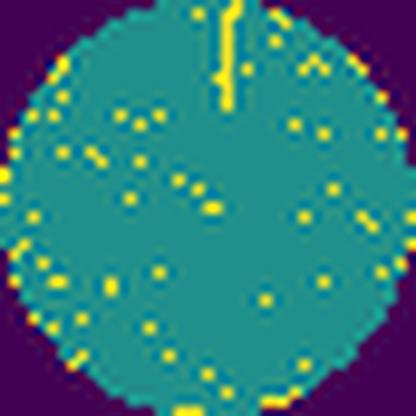Scratch: (205, 0, 252, 117)
